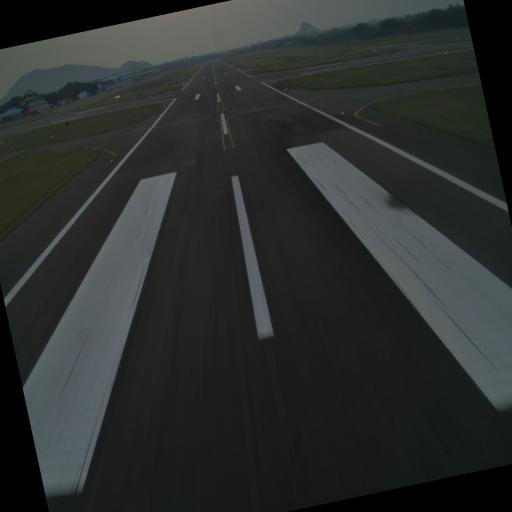on: (108, 156, 114, 163), (340, 109, 344, 117)
